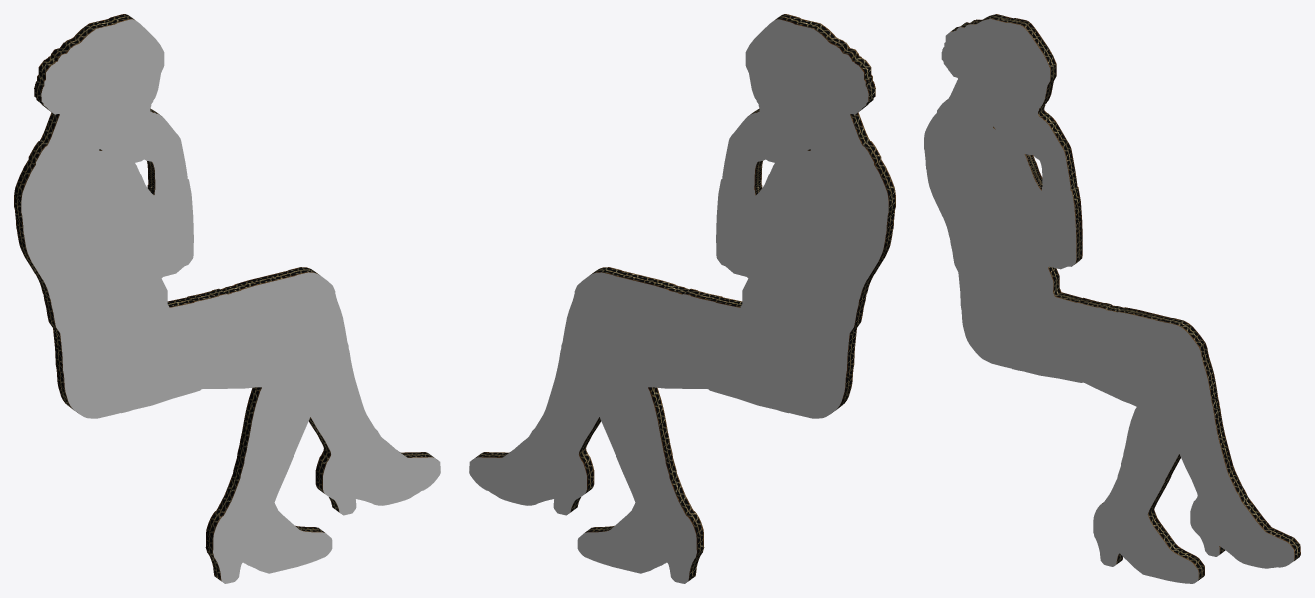
The model's file is NPC_Patron_well_dressed.FBX.
3 renders of one model, left to right at view 1: azimuth 30°, elevation 25°; view 2: azimuth 150°, elevation 25°; view 3: azimuth 330°, elevation 25°, orthographic. The views are drawn at different scales.
Visible parts, largest first — view 1: NPC_Patron_well_dressed001; view 2: NPC_Patron_well_dressed001; view 3: NPC_Patron_well_dressed001.
Boxes of the visible parts, left/top/right/bottom form: NPC_Patron_well_dressed001: left=14, top=14, right=440, bottom=583; NPC_Patron_well_dressed001: left=469, top=14, right=895, bottom=583; NPC_Patron_well_dressed001: left=924, top=14, right=1300, bottom=583.
Size of the model in its own units: 40.99 by 54.94 by 1.24.
